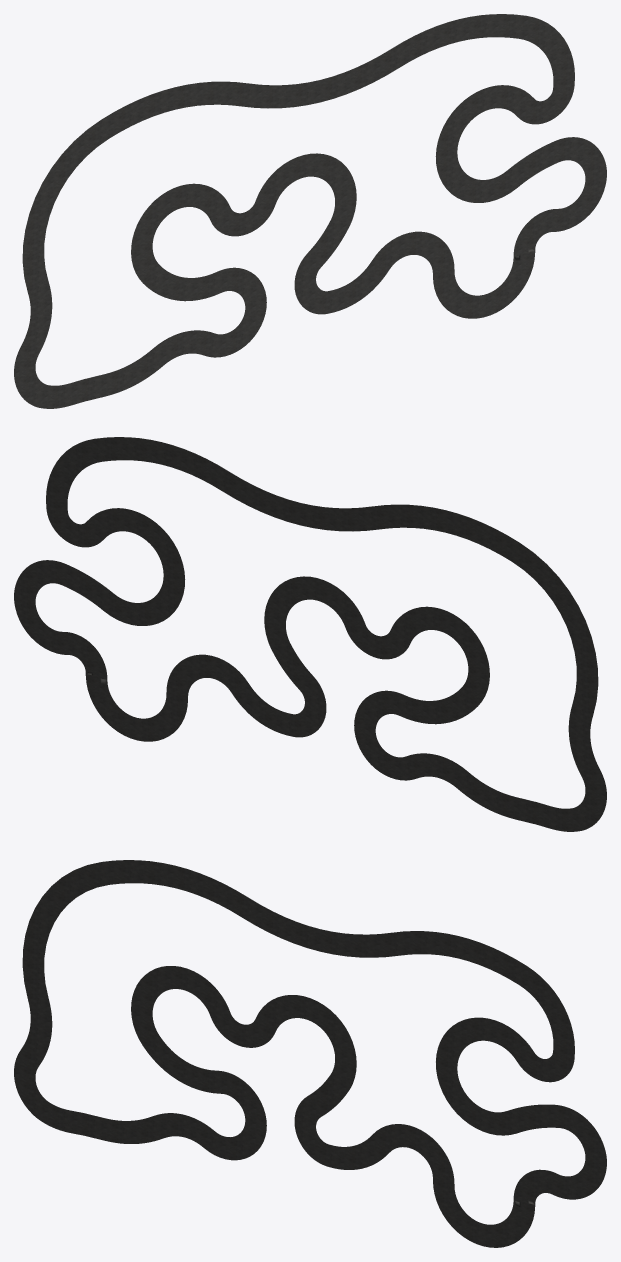
Rendered from track15_road.obj.
The picture shows the model from 3 angles, top to bottom: view 1: azimuth 30°, elevation 25°; view 2: azimuth 150°, elevation 25°; view 3: azimuth 330°, elevation 25°; orthographic projection.
Parts seen in each view (by area): view 1: road_0_curve_; view 2: road_0_curve_; view 3: road_0_curve_.
Part boxes in pixels (bbox=[...]): road_0_curve_: bbox=[14, 14, 606, 408]; road_0_curve_: bbox=[14, 437, 606, 831]; road_0_curve_: bbox=[14, 860, 606, 1247].
Bounding box in the file's own units: 44.98 × 22.15 × 0.
Materials: 1 (1 with a texture image).
